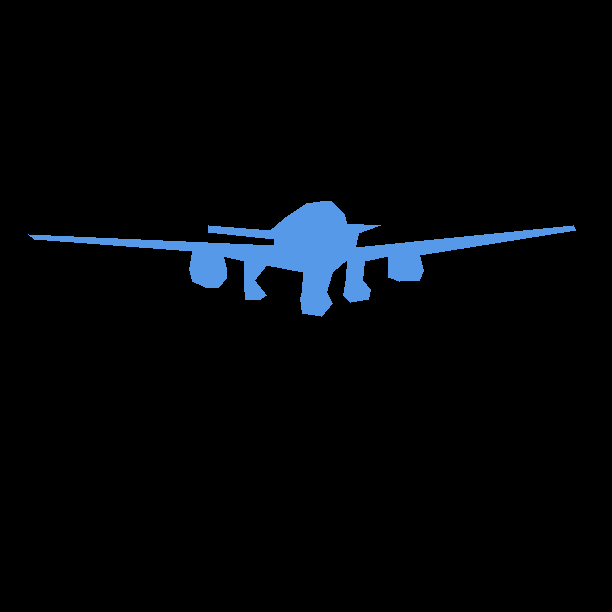Airplane: (28, 201, 576, 316)
